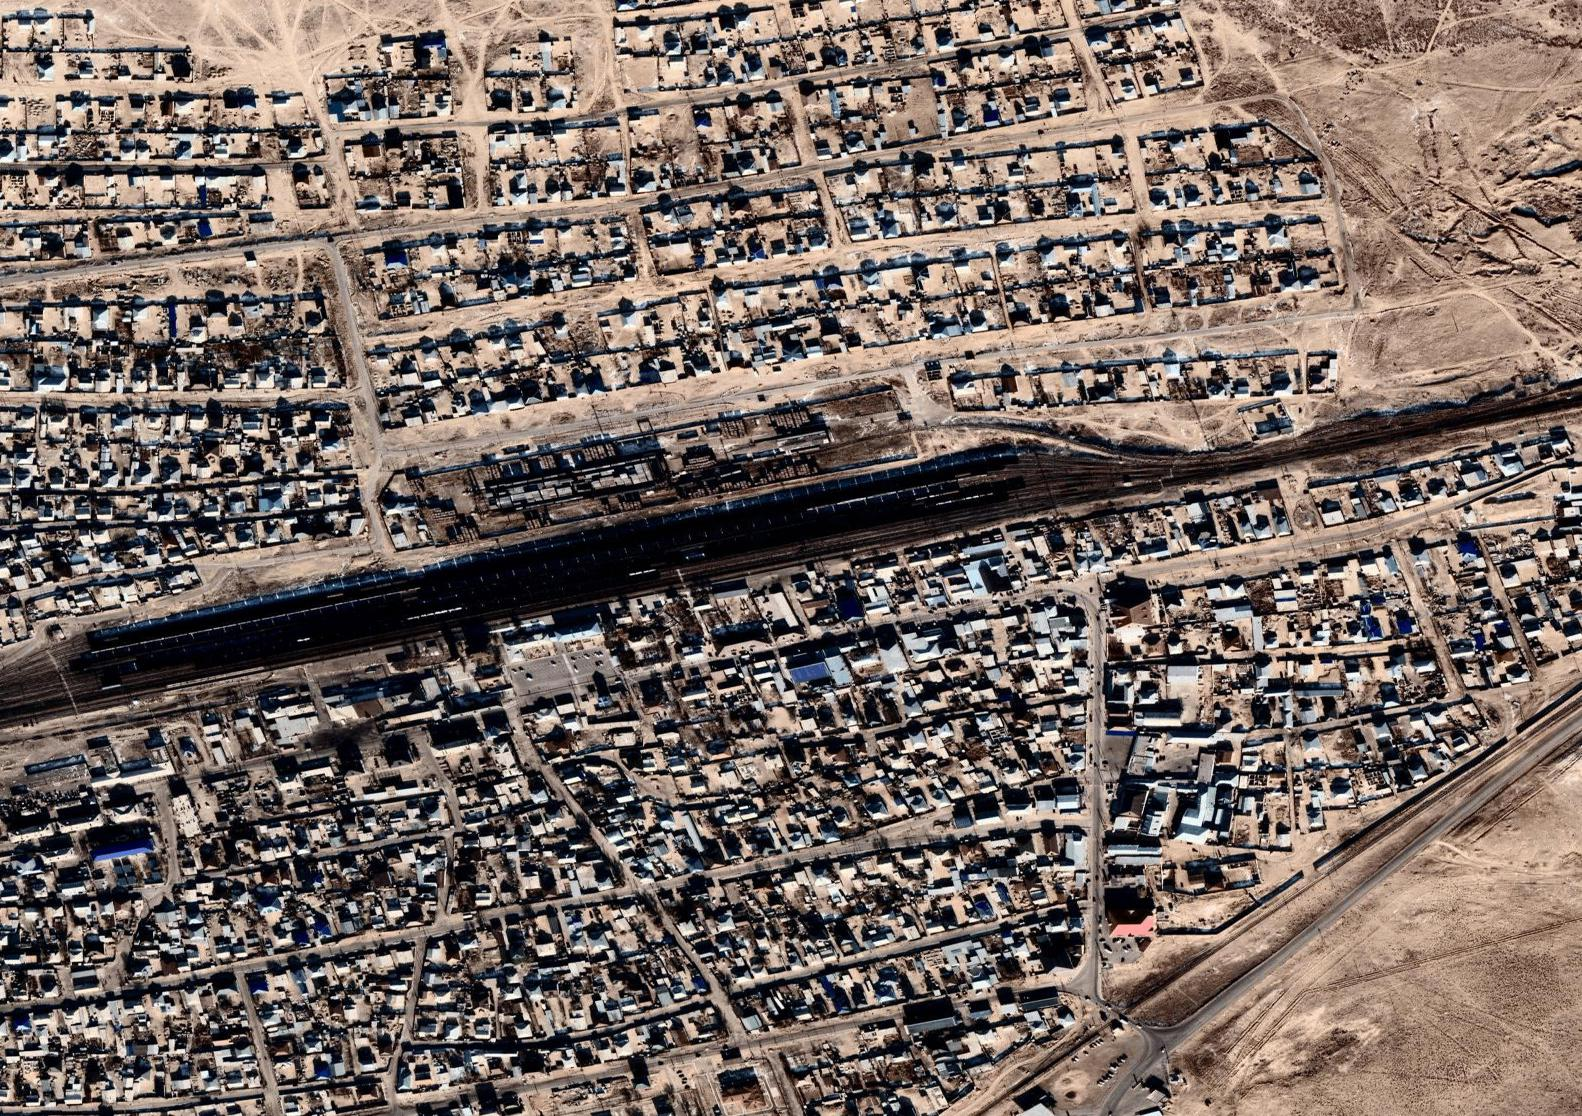train_station: (379, 397, 936, 606)
